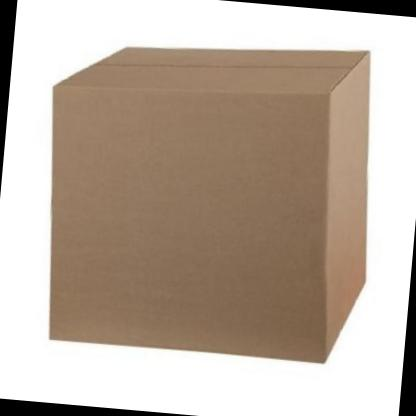box: (31, 23, 388, 372)
